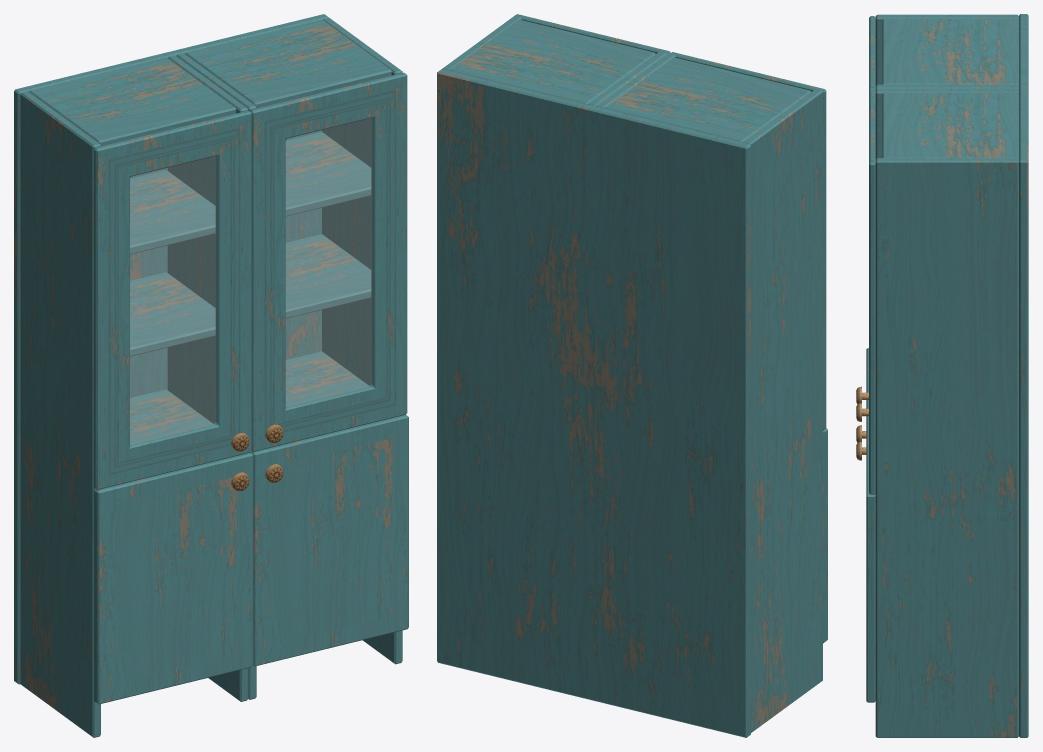
The model's file is cabinets.glb.
3 renders of one model, left to right at view 1: azimuth 30°, elevation 25°; view 2: azimuth 150°, elevation 25°; view 3: azimuth 270°, elevation 25°, orthographic. The views are drawn at different scales.
Visible parts, largest first — view 1: Cabinet_FrontGlass_B.005, Cabinet_FrontA.003, Cabinet_Side_A.003, Cabinet_Back_A.005, Cabinet_Shelf_D.002, Cabinet_Shelf_D.003, Cabinet_Side_A.005, Cabinet_Side_A.004, Cabinet_Shelf_D.009, Cabinet_Shelf_D.005, Cabinet_Shelf_D.004, Cabinet_Shelf_D.008 (+2 smaller); view 2: Cabinet_Back_A.005, Cabinet_Side_A.003, Cabinet_Shelf_D.003, Cabinet_Shelf_D.002, Cabinet_FrontGlass_B.005, Cabinet_Side_A.005, Cabinet_FrontA.003; view 3: Cabinet_Side_A.004, Cabinet_Shelf_D.002, Cabinet_Shelf_D.003, Cabinet_Back_A.005, Cabinet_FrontGlass_B.005, Cabinet_FrontA.003, Cabinet_Side_A.005, Cabinet_Side_A.003.
Boxes of the visible parts, left/top/right/bottom form: Cabinet_FrontGlass_B.005: left=94, top=72, right=407, bottom=489; Cabinet_FrontA.003: left=94, top=415, right=408, bottom=704; Cabinet_Side_A.003: left=20, top=91, right=100, bottom=737; Cabinet_Back_A.005: left=14, top=14, right=328, bottom=684; Cabinet_Shelf_D.002: left=29, top=57, right=236, bottom=146; Cabinet_Shelf_D.003: left=185, top=19, right=391, bottom=108; Cabinet_Side_A.005: left=167, top=53, right=256, bottom=701; Cabinet_Side_A.004: left=322, top=17, right=402, bottom=664; Cabinet_Shelf_D.009: left=285, top=234, right=371, bottom=318; Cabinet_Shelf_D.005: left=285, top=132, right=371, bottom=216; Cabinet_Shelf_D.004: left=130, top=170, right=215, bottom=254; Cabinet_Shelf_D.008: left=130, top=272, right=215, bottom=356; Cabinet_Back_A.005: left=437, top=69, right=750, bottom=737; Cabinet_Side_A.003: left=743, top=89, right=822, bottom=732; Cabinet_Shelf_D.003: left=449, top=19, right=655, bottom=104; Cabinet_Shelf_D.002: left=604, top=57, right=810, bottom=142; Cabinet_FrontGlass_B.005: left=515, top=14, right=826, bottom=430; Cabinet_Side_A.005: left=587, top=51, right=675, bottom=108; Cabinet_FrontA.003: left=823, top=428, right=827, bottom=643; Cabinet_Side_A.004: left=875, top=158, right=1018, bottom=737; Cabinet_Shelf_D.002: left=882, top=18, right=1018, bottom=85; Cabinet_Shelf_D.003: left=882, top=92, right=1018, bottom=158; Cabinet_Back_A.005: left=1019, top=14, right=1028, bottom=737; Cabinet_FrontGlass_B.005: left=869, top=16, right=875, bottom=494; Cabinet_FrontA.003: left=866, top=348, right=875, bottom=702; Cabinet_Side_A.005: left=875, top=84, right=1018, bottom=158; Cabinet_Side_A.003: left=875, top=14, right=1018, bottom=85.
Bounding box in the file's own units: 1.11 × 2 × 0.5409.
2 materials, 1 textured.
